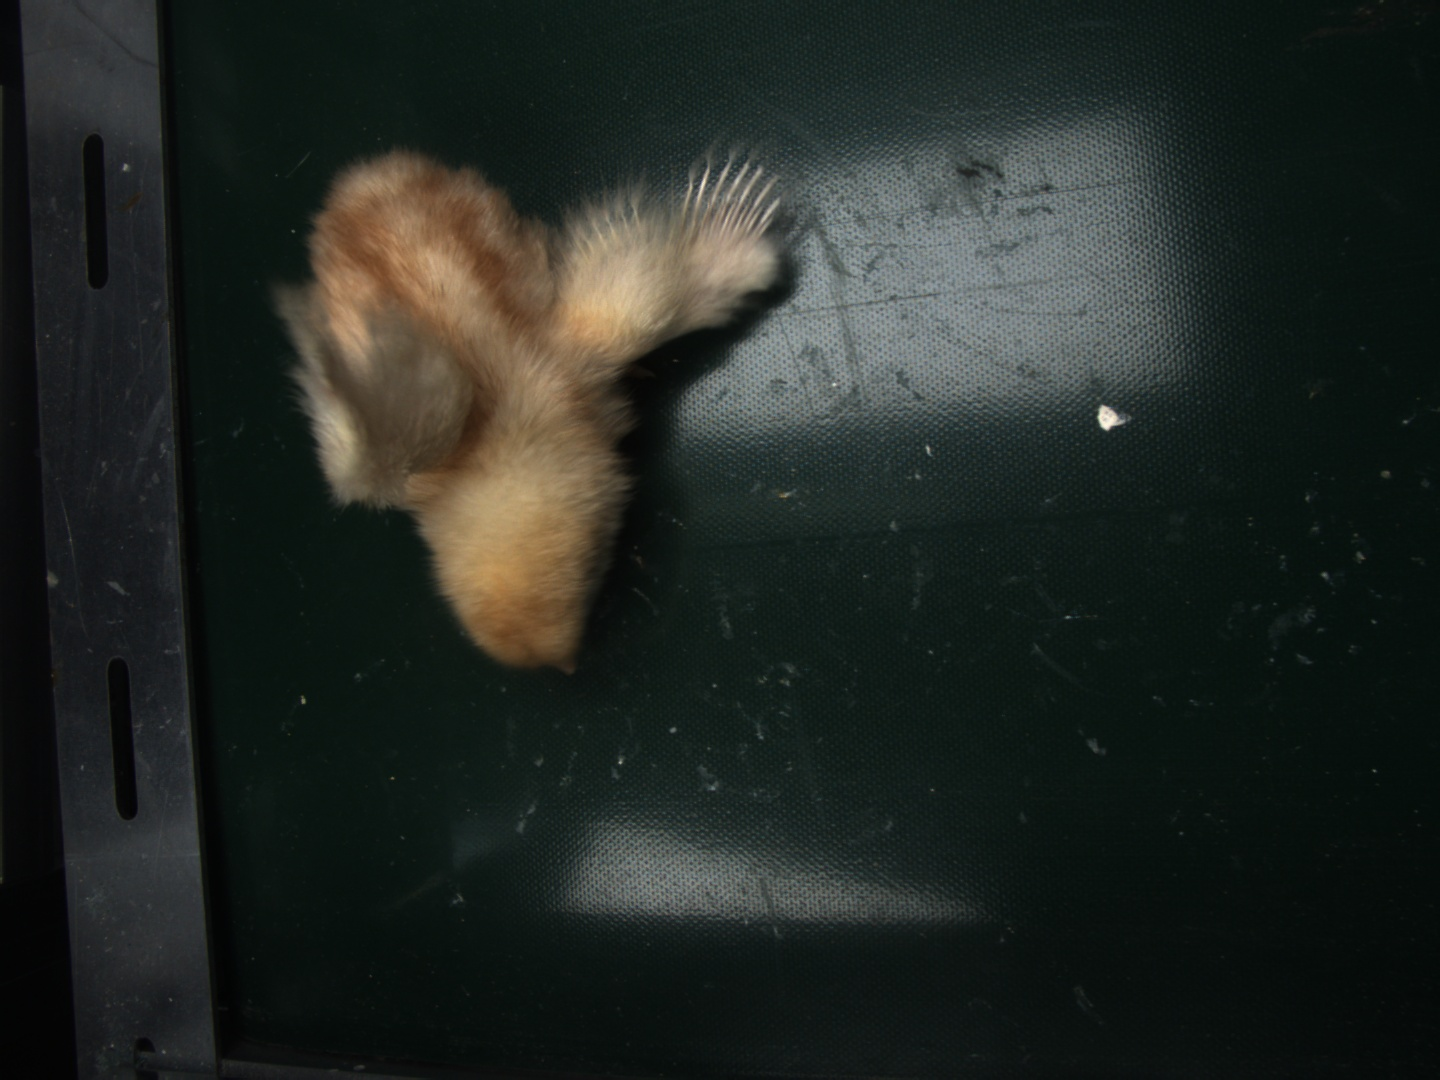female: (678, 162, 782, 253)
